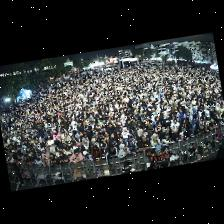person: (105, 145, 118, 170), (137, 135, 150, 151), (92, 145, 102, 164), (171, 118, 179, 141), (70, 150, 83, 164), (119, 144, 131, 158), (162, 113, 170, 133), (159, 132, 172, 144), (153, 116, 162, 133), (99, 137, 108, 153), (59, 150, 69, 164), (180, 106, 189, 121), (148, 126, 157, 141), (151, 134, 161, 147), (132, 116, 141, 130), (122, 127, 130, 142), (137, 129, 146, 142), (192, 114, 198, 133), (129, 134, 137, 148), (117, 137, 126, 149), (194, 122, 203, 134), (64, 146, 73, 158), (128, 141, 136, 154), (184, 124, 192, 137), (50, 153, 58, 166), (200, 112, 206, 129), (61, 139, 71, 149), (26, 155, 35, 166), (109, 133, 117, 145), (125, 120, 133, 132), (133, 125, 140, 138), (178, 126, 185, 139), (41, 148, 49, 159), (53, 129, 61, 140), (83, 151, 92, 160), (76, 143, 84, 153), (172, 102, 178, 115), (82, 139, 89, 150), (102, 131, 109, 142), (209, 119, 216, 130), (50, 143, 57, 154), (176, 108, 181, 123), (43, 158, 51, 167), (63, 133, 71, 142), (107, 123, 114, 133), (121, 114, 127, 125), (92, 138, 99, 147), (215, 119, 222, 128), (26, 148, 33, 156), (149, 162, 157, 169), (88, 143, 93, 154), (189, 111, 193, 124), (55, 147, 60, 157), (71, 141, 77, 149), (48, 136, 54, 144), (22, 155, 26, 167), (45, 144, 50, 153), (18, 155, 22, 165)
